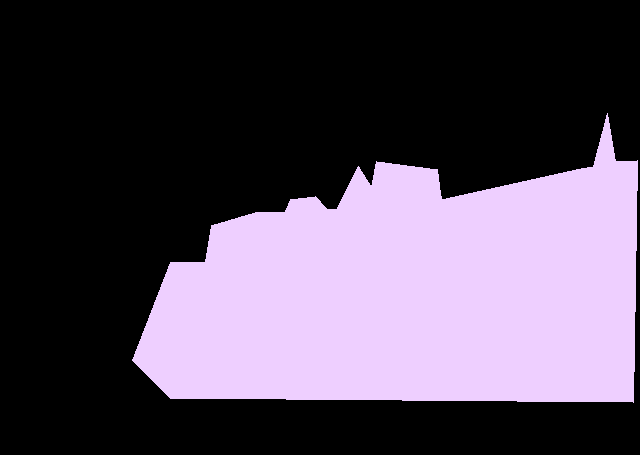Train: (132, 113, 638, 403)
